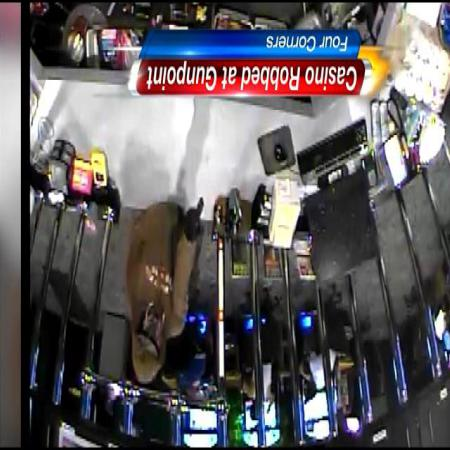Pistol: (177, 189, 215, 240)
